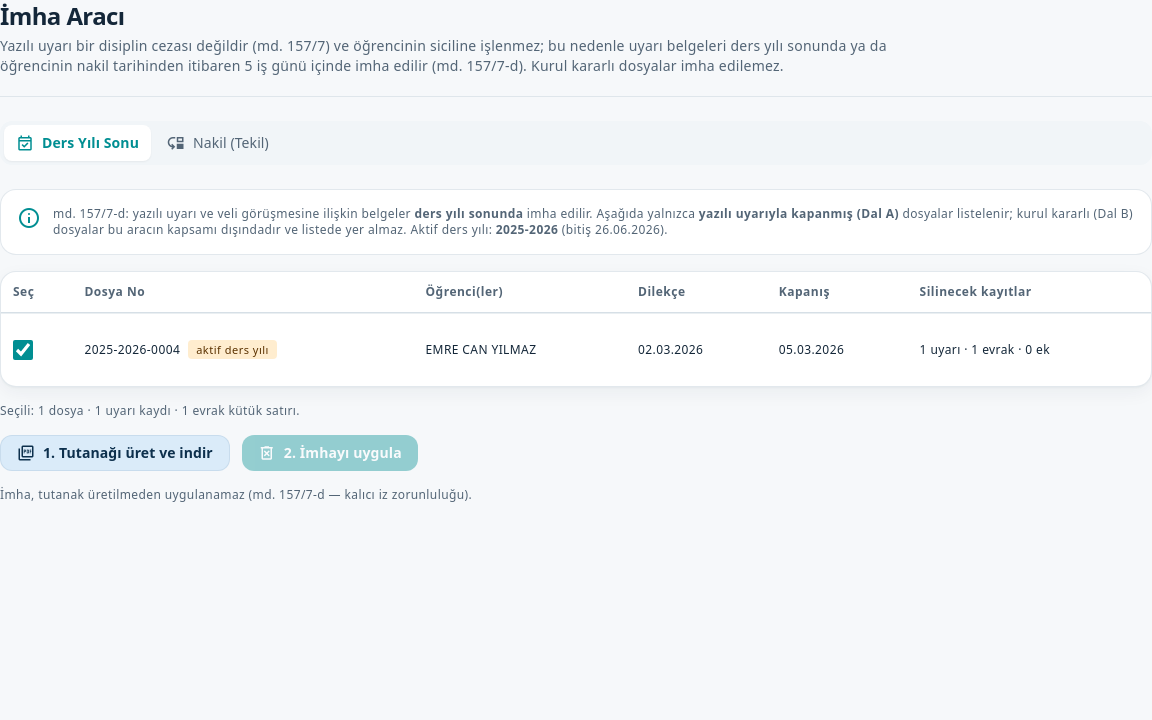
Scenario: ImhaPage — ders yılı sonu › seçim değişince tutanak jetonu düşer (imha yeniden kilitlenir)
expect the text "2025-2026-0004" is shown: met, box [84,341,180,358]
What coordinates should you click on to do the following:
click the button "1. Tutanağı üret ve indir"
I would click on:
 (115, 453)
Its box is [0,435,230,471].
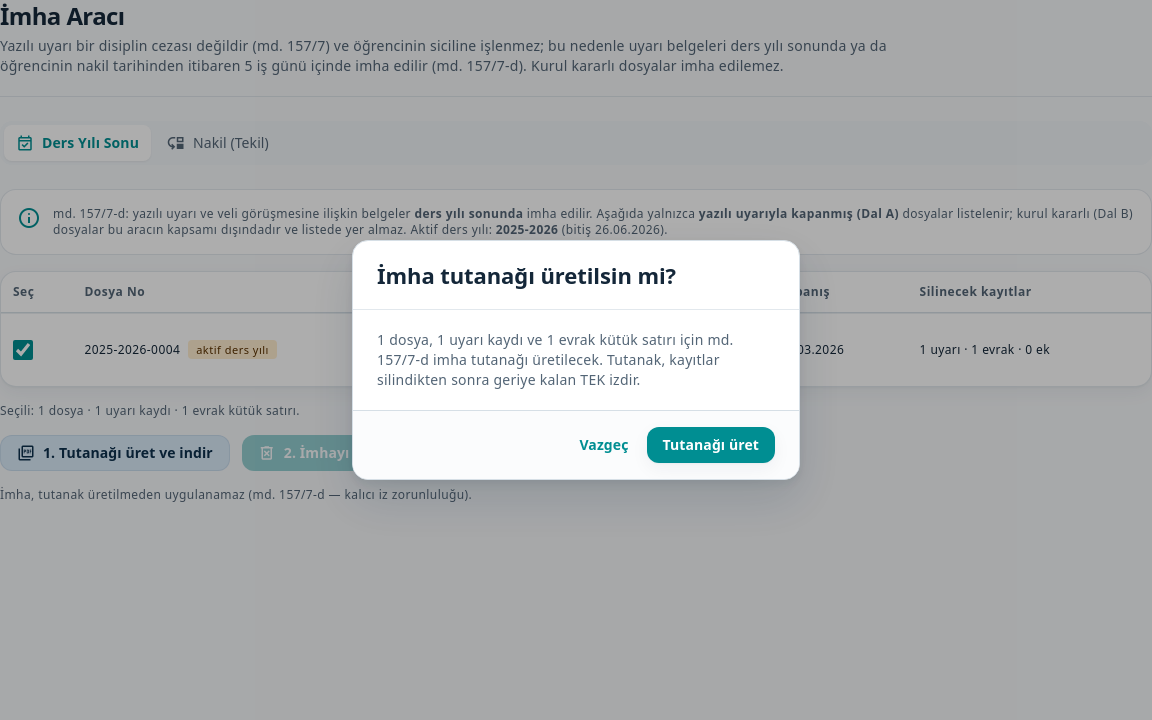
What coordinates should you click on to do the following:
click the button "Tutanağı üret"
I would click on:
 (711, 445)
Its box is [646,427,775,463].
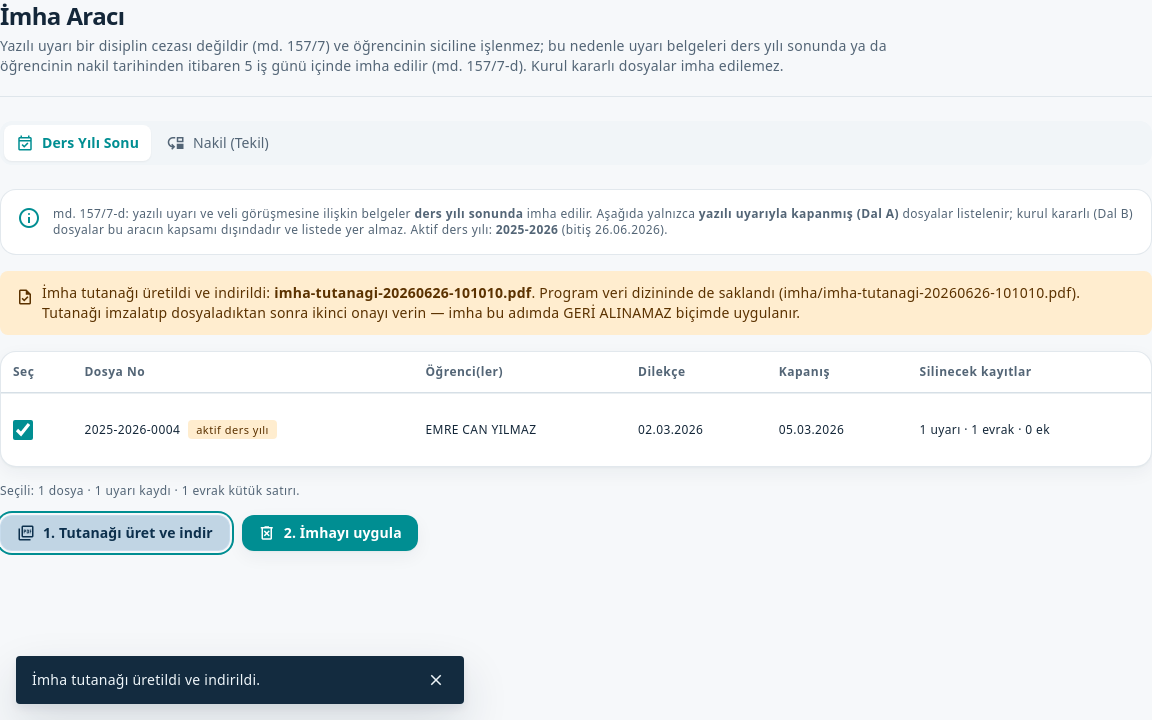
expect the button "2. İmhayı uygula" is enabled: met, box [242,515,418,551]
What coordinates should you click on to do the following:
click the checkbox named "2025-2026-0004 dosyasını imha kapsamına al"
I would click on:
 (23, 430)
Its box is [13,420,33,440].
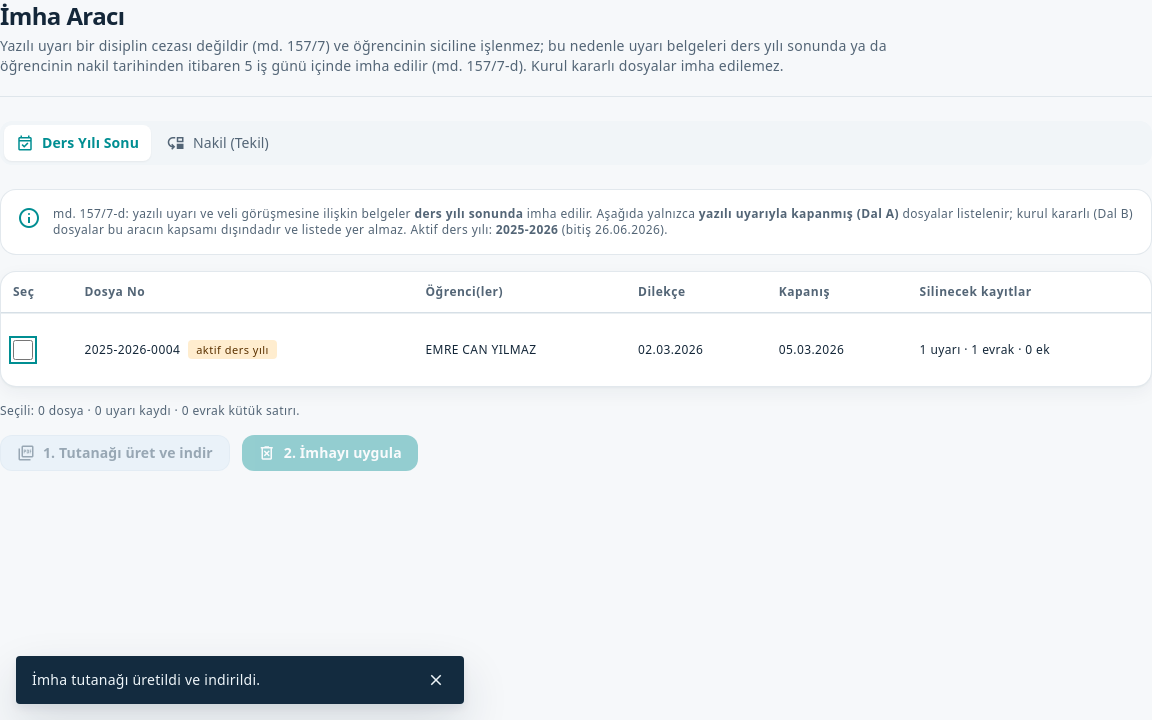
expect the button "2. İmhayı uygula" is disabled: met, box [242,435,418,471]
